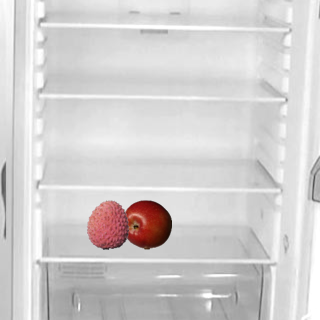Apple Braeburn: (121, 199, 171, 249)
Lychee: (82, 199, 132, 249)
